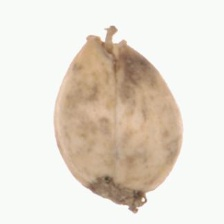L1: (91, 176, 148, 212), (85, 24, 127, 66)
L2: (54, 26, 183, 213)
